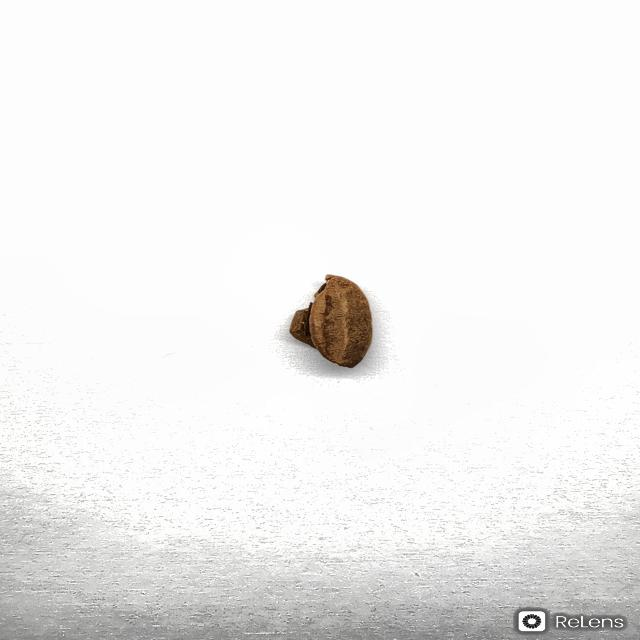Broken: (288, 273, 374, 368)
